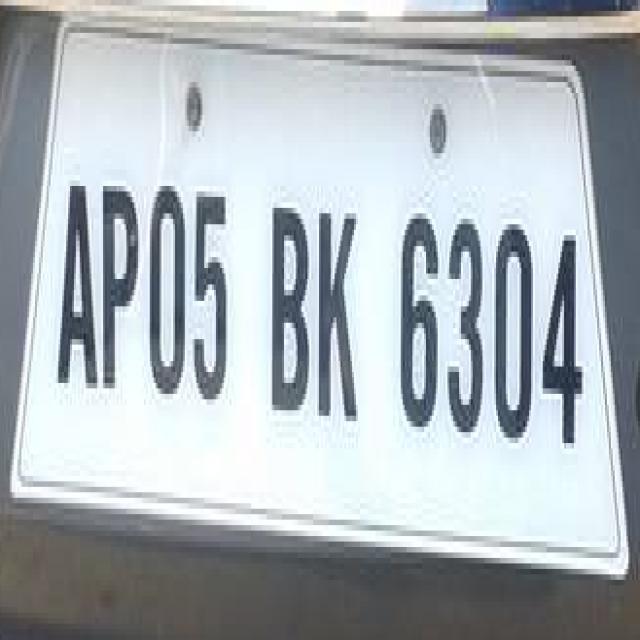plate: (23, 38, 640, 558)
